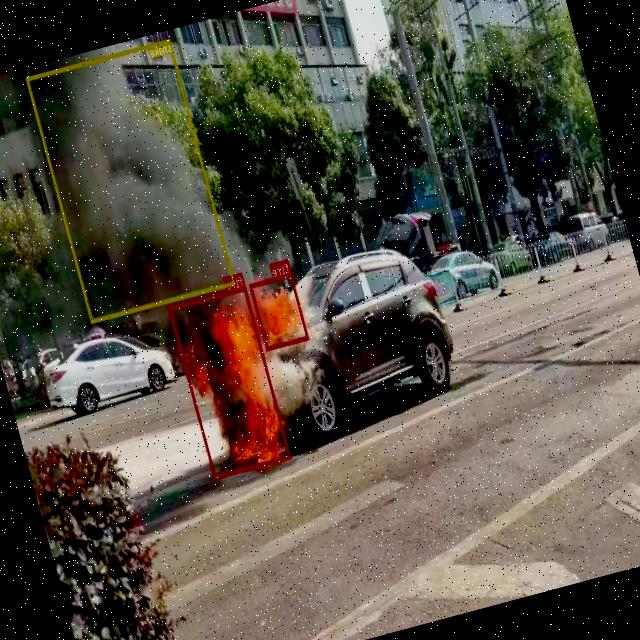fire: (168, 285, 292, 478), (250, 272, 308, 350)
smoke: (26, 39, 236, 322)
